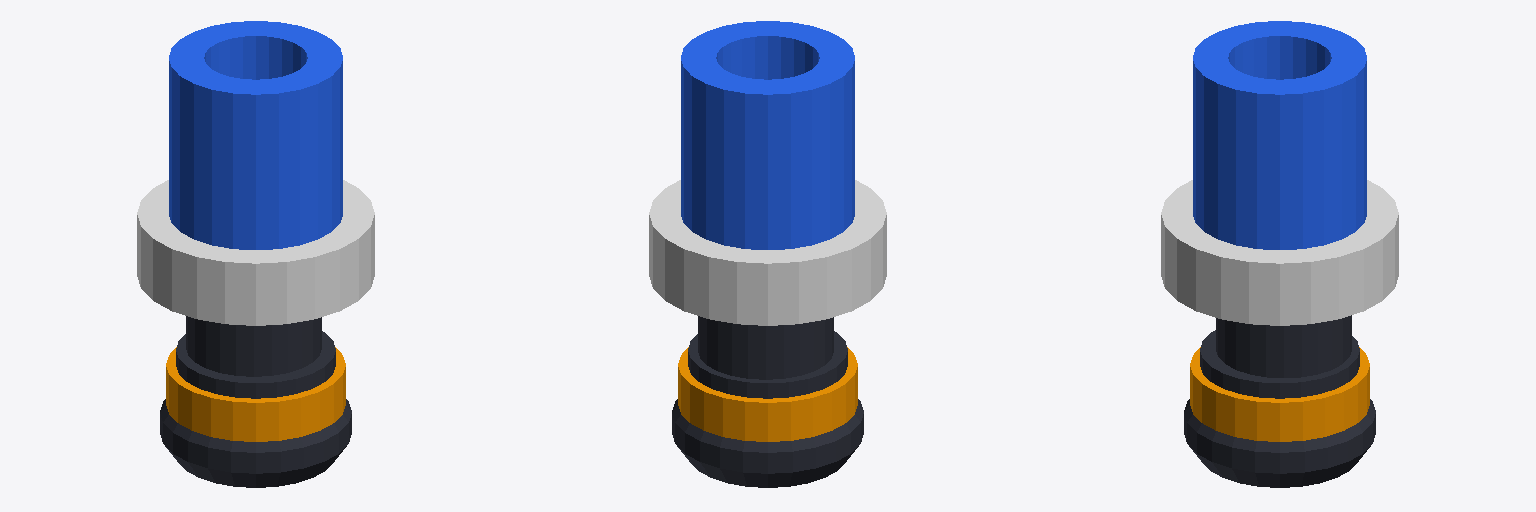
Rendered from tower_depleted_kyparium.obj.
3 views of the same model, side by side, from view 1: azimuth 30°, elevation 25°; view 2: azimuth 150°, elevation 25°; view 3: azimuth 270°, elevation 25° (orthographic).
Parts seen in each view (by area): view 1: mergedBlocks; view 2: mergedBlocks; view 3: mergedBlocks.
Part boxes in pixels (bbox=[...]): mergedBlocks: bbox=[137, 21, 374, 487]; mergedBlocks: bbox=[649, 21, 886, 487]; mergedBlocks: bbox=[1161, 21, 1398, 487].
Bounding box in the file's own units: 1.19 × 2.18 × 1.19.